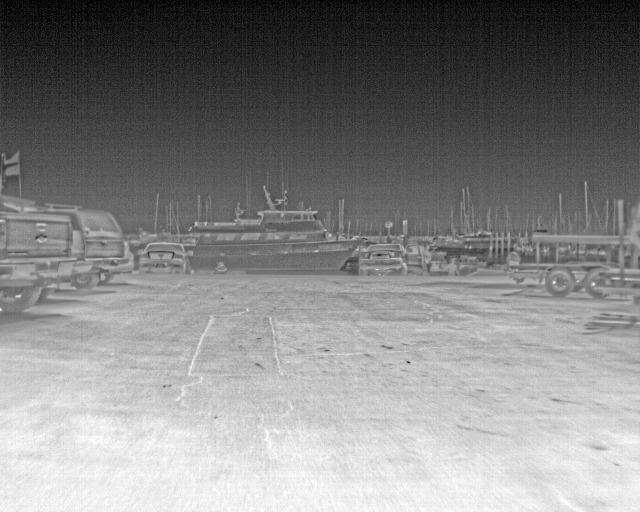bicycle: (0, 207, 75, 315), (41, 205, 121, 289), (358, 240, 422, 277), (138, 241, 194, 275), (76, 227, 92, 274), (114, 240, 135, 272)
empty: (446, 257, 461, 278)
